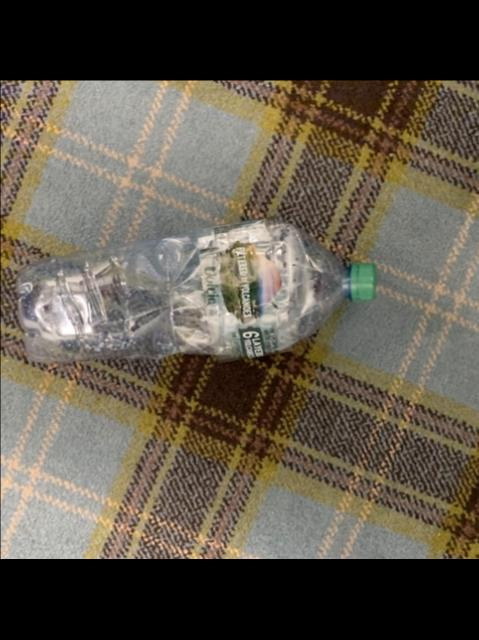plastic: (15, 221, 373, 364)
